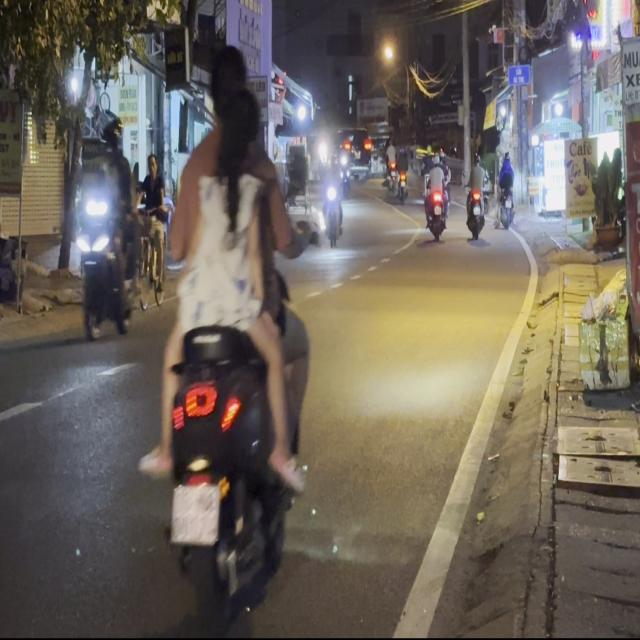licenseplate: (142, 39, 315, 632)
motorcyclist: (204, 42, 258, 158), (216, 89, 262, 180)
nohelmet: (170, 482, 220, 542)
